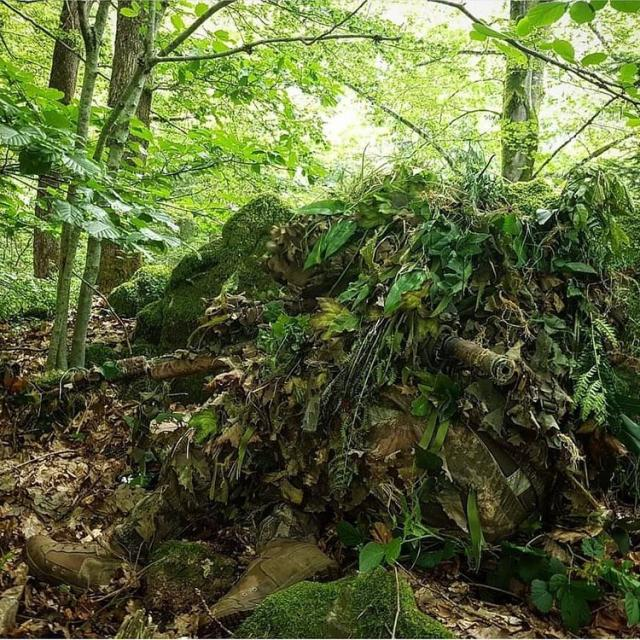Camouflage: (19, 206, 628, 591)
